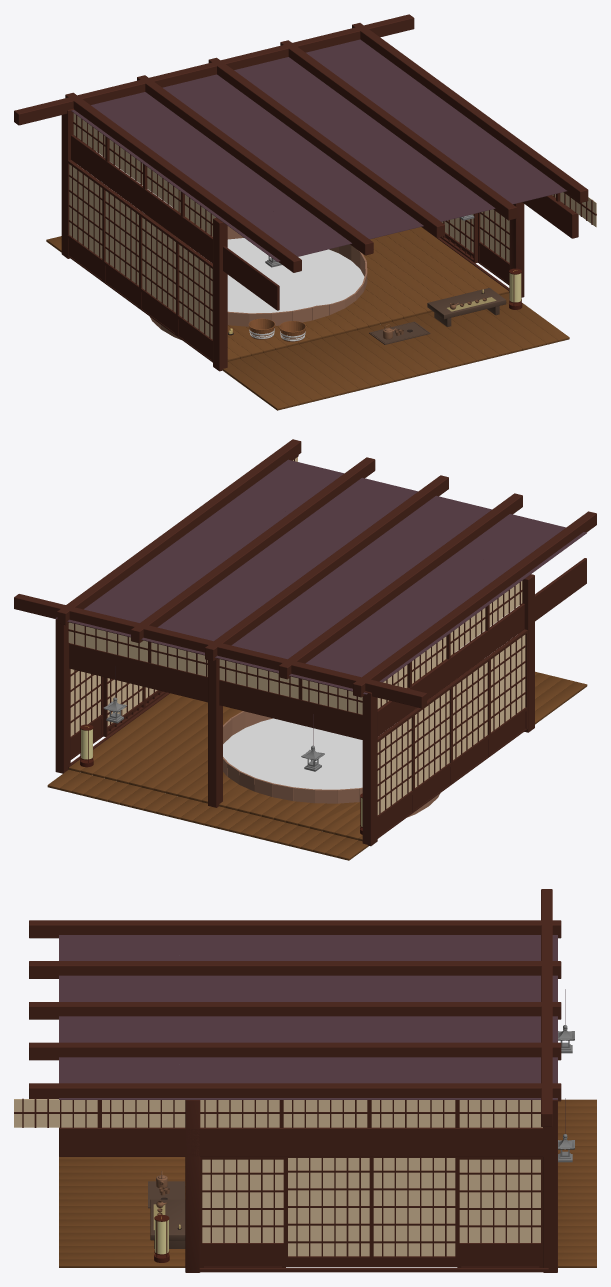
3 renders of one model, top to bottom at view 1: azimuth 30°, elevation 25°; view 2: azimuth 150°, elevation 25°; view 3: azimuth 270°, elevation 25°, orthographic. The views are drawn at different scales.
Visible parts, largest first — view 1: Cube.008, Cube.049, Cube, Cube.032, Plane, Cube.003, Cube.052, Cube.004, Cube.027, Cube.029, Cube.025, Cylinder.026 (+14 smaller); view 2: Cube.008, Cube.049, Cube.032, Cube.005, Plane, Cube.009, Cube.052, Cube.003, Cube.029, Cube.027, Cube.004, Cube.025 (+16 smaller); view 3: Cube.008, Cube.049, Cube.006, Cube, Cube.017, Cube.026, Cube.024, Cube.023, Cube.009, Cube.047, Cube.052, Cube.020 (+10 smaller).
Part boxes in pixels (left/top/right/bottom): Cube.008: left=71, top=39, right=566, bottom=261; Cube.049: left=65, top=23, right=588, bottom=272; Cube: left=223, top=293, right=569, bottom=410; Cube.032: left=193, top=222, right=508, bottom=361; Plane: left=227, top=238, right=364, bottom=313; Cube.003: left=71, top=135, right=279, bottom=310; Cube.052: left=14, top=14, right=414, bottom=125; Cube.004: left=103, top=186, right=142, bottom=308; Cube.027: left=140, top=213, right=179, bottom=335; Cube.029: left=176, top=239, right=212, bottom=362; Cube.025: left=66, top=160, right=105, bottom=281; Cylinder.026: left=150, top=226, right=367, bottom=339; Cube.008: left=55, top=459, right=586, bottom=694; Cube.049: left=57, top=439, right=596, bottom=697; Cube.032: left=68, top=693, right=362, bottom=841; Cube.005: left=69, top=643, right=362, bottom=739; Plane: left=223, top=718, right=362, bottom=789; Cube.009: left=47, top=769, right=368, bottom=860; Cube.052: left=14, top=594, right=426, bottom=708; Cube.003: left=377, top=558, right=586, bottom=736; Cube.029: left=487, top=629, right=527, bottom=756; Cube.027: left=449, top=657, right=489, bottom=784; Cube.004: left=411, top=685, right=451, bottom=811; Cube.025: left=377, top=712, right=413, bottom=838; Cube.008: left=59, top=935, right=557, bottom=1099; Cube.049: left=29, top=920, right=561, bottom=1101; Cube.006: left=59, top=1127, right=547, bottom=1156; Cube: left=59, top=1157, right=185, bottom=1267; Cube.017: left=371, top=1157, right=457, bottom=1266; Cube.026: left=457, top=1157, right=542, bottom=1267; Cube.024: left=200, top=1157, right=285, bottom=1267; Cube.023: left=286, top=1157, right=371, bottom=1266; Cube.009: left=558, top=1099, right=596, bottom=1267; Cube.047: left=185, top=1100, right=200, bottom=1272; Cube.052: left=541, top=889, right=552, bottom=1126; Cube.020: left=14, top=1098, right=97, bottom=1127.
Size of the model in its own units: 3363 by 1461 by 3683.
